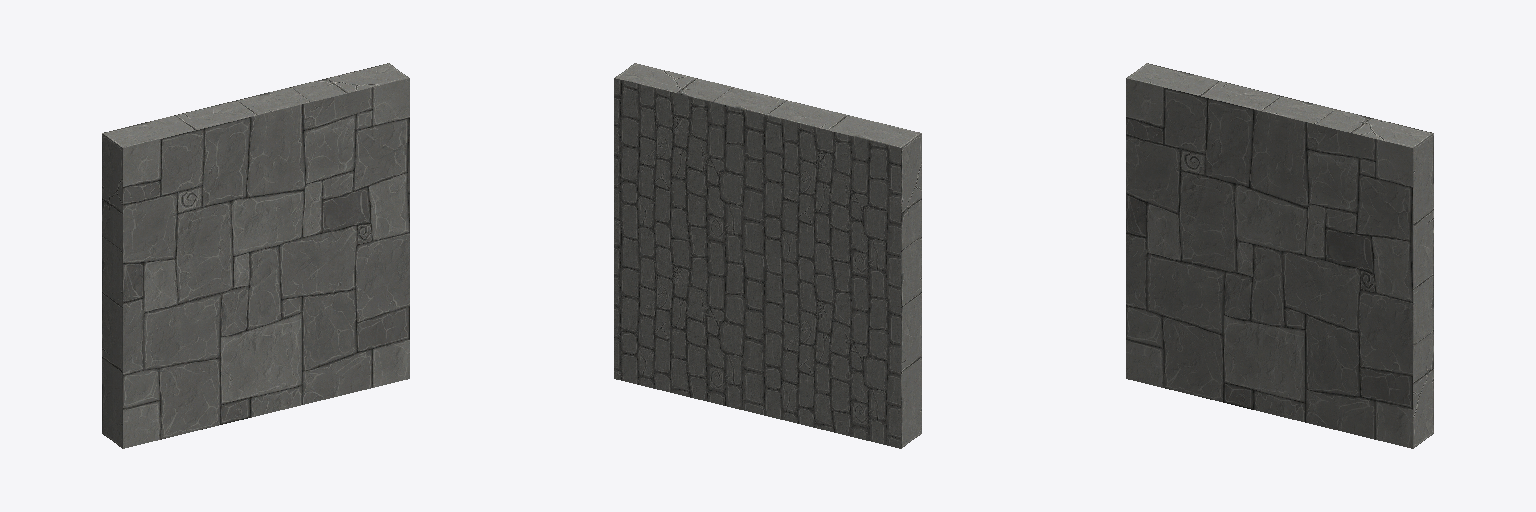
3 views of the same model, side by side, from view 1: azimuth 30°, elevation 25°; view 2: azimuth 150°, elevation 25°; view 3: azimuth 330°, elevation 25° (orthographic).
Parts seen in each view (by area): view 1: Object.3, Object.2; view 2: Object.1, Object.2; view 3: Object.3, Object.2.
Boxes of the visible parts, <box> form: Object.3: <box>123,78,409,448</box>; Object.2: <box>102,63,408,448</box>; Object.1: <box>614,78,900,448</box>; Object.2: <box>615,63,921,448</box>; Object.3: <box>1126,78,1412,448</box>; Object.2: <box>1127,63,1433,448</box>.
Bounding box in the file's own units: 0.512 × 0.512 × 0.064.
Materials: 3 (3 with a texture image).